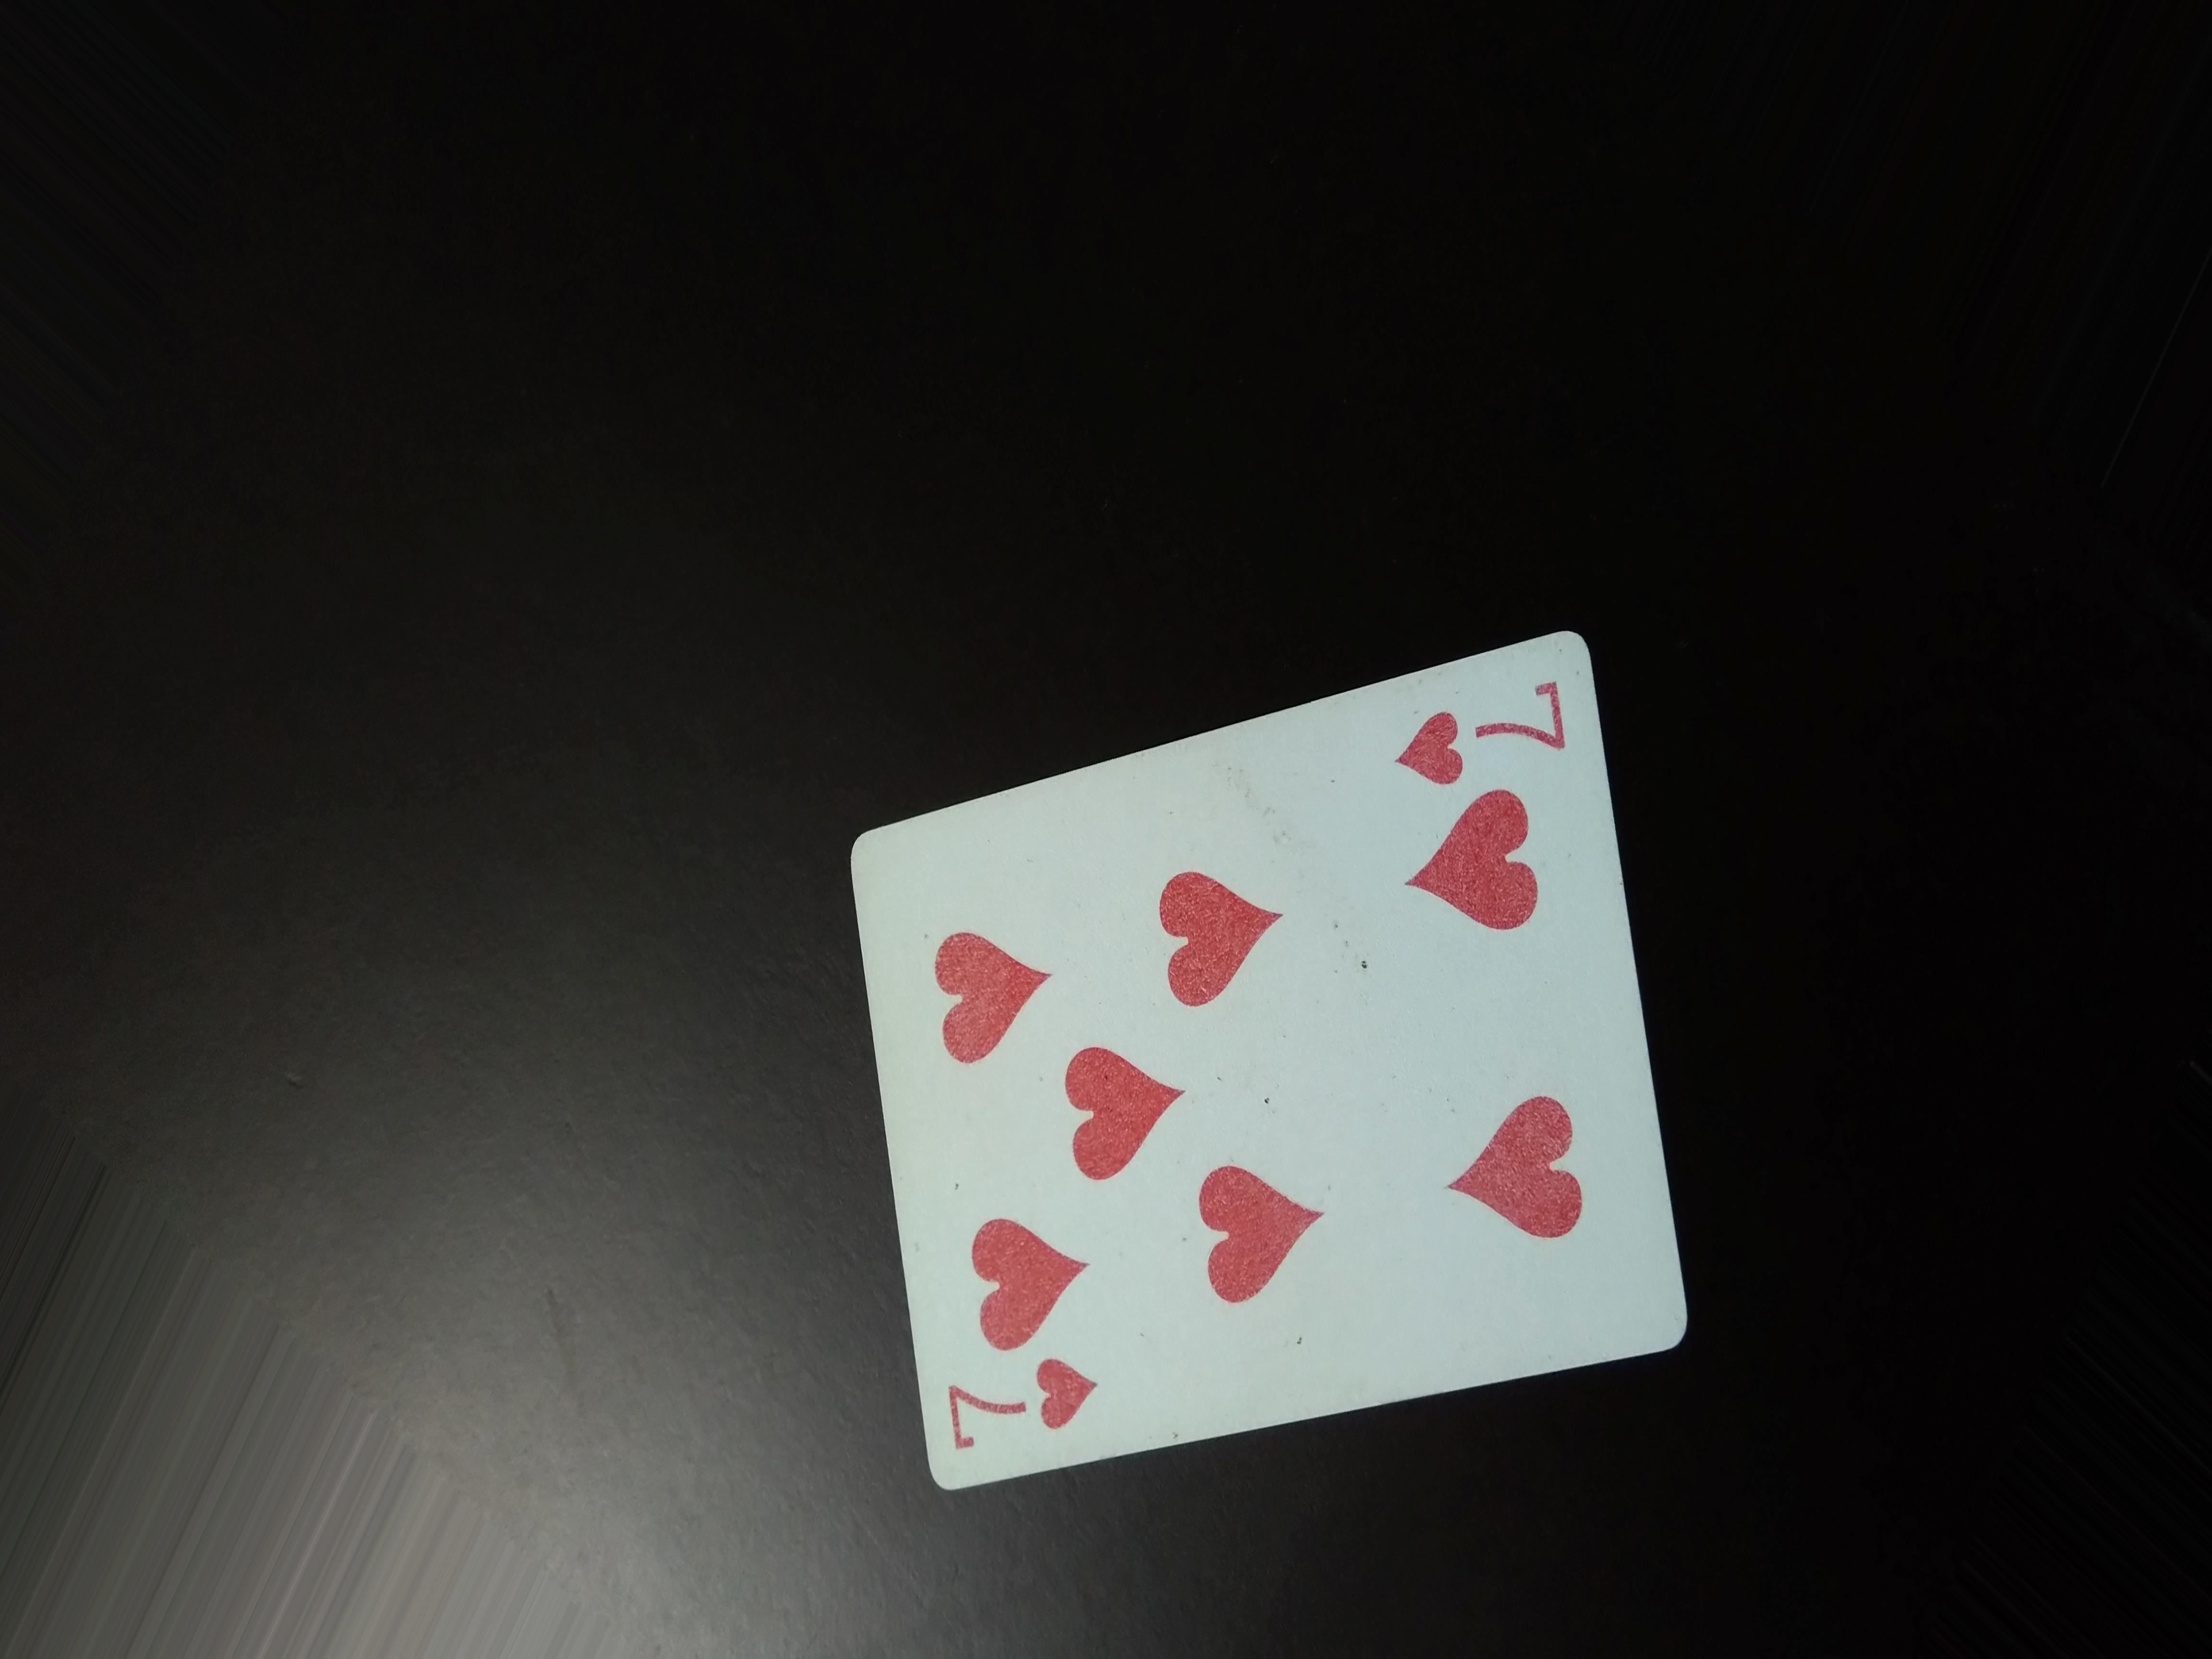7H: (911, 1354, 1144, 1460)
